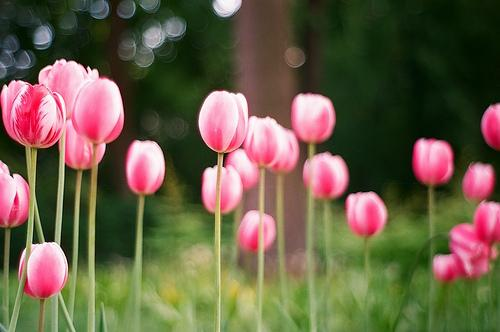tulip: (0, 81, 66, 147), (73, 76, 125, 144), (198, 89, 249, 152), (20, 242, 69, 297), (0, 159, 33, 227), (127, 139, 165, 193), (304, 152, 348, 196), (345, 192, 388, 237), (293, 93, 335, 139), (245, 116, 283, 166), (413, 138, 454, 183), (201, 166, 241, 211)
